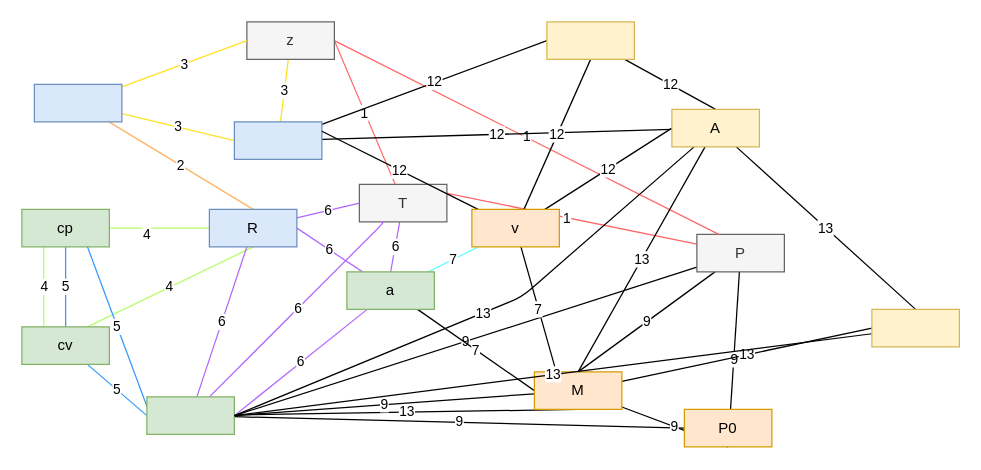
The diagram is 981 pixels wide and 470 high, and some of its shapes have lost their labels. Each missing label, with the centre of its shape:
Astar: point 915,327
gamma: point 190,415
mdot: point 590,40
MM: point 77,102
rho: point 277,140
